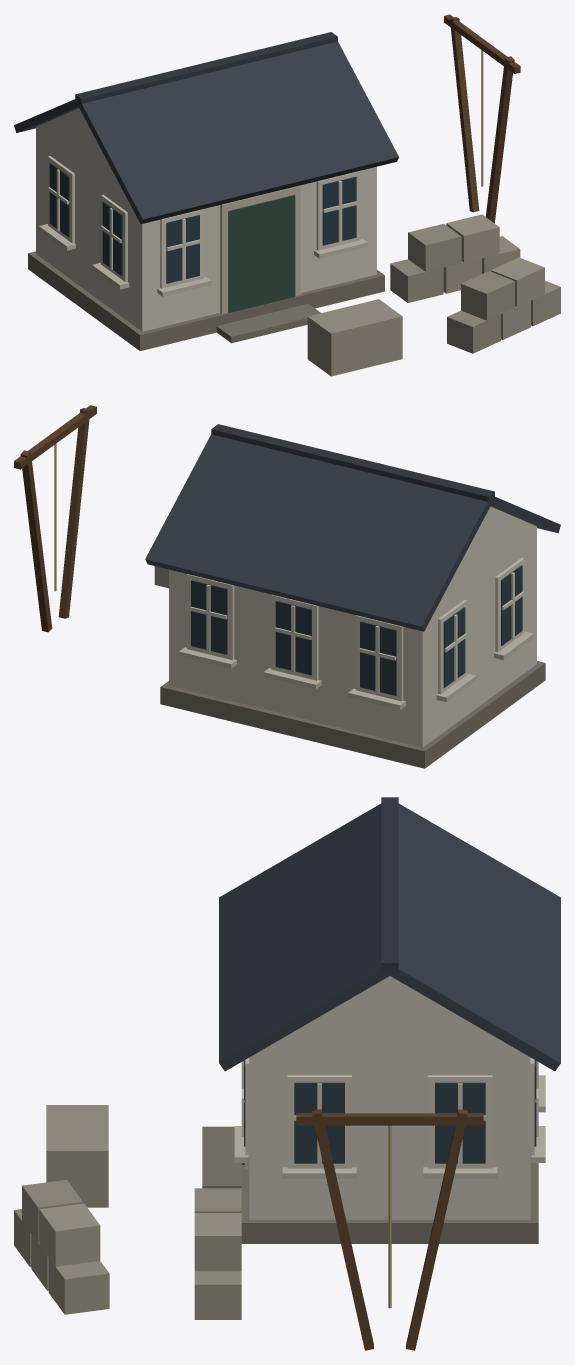
Rendered from procedural_mason@5.glb.
The picture shows the model from 3 angles, top to bottom: view 1: azimuth 30°, elevation 25°; view 2: azimuth 150°, elevation 25°; view 3: azimuth 270°, elevation 25°; orthographic projection. The views are drawn at different scales.
Visible parts, largest first — view 1: part_0; view 2: part_0; view 3: part_0.
Part boxes in pixels (x1,y1,x2,y2): part_0: [14, 14, 560, 376]; part_0: [14, 405, 560, 768]; part_0: [14, 797, 560, 1350].
Bounding box in the file's own units: 7.97 × 4.1 × 7.
